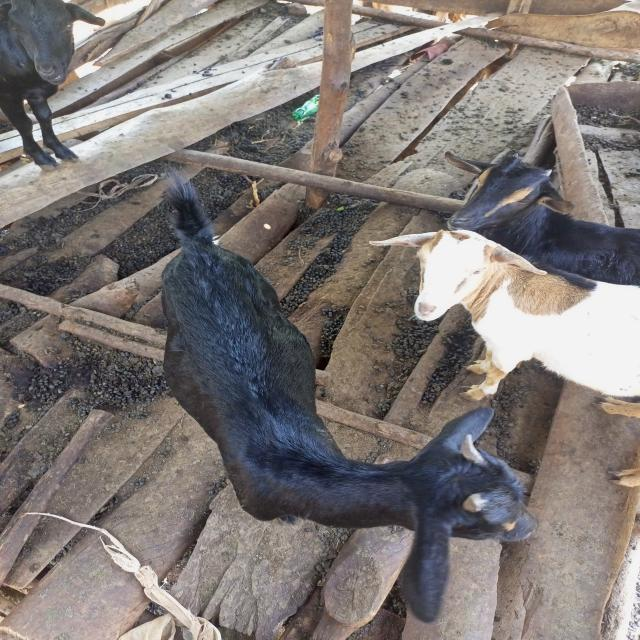goat: (332, 197, 640, 441)
